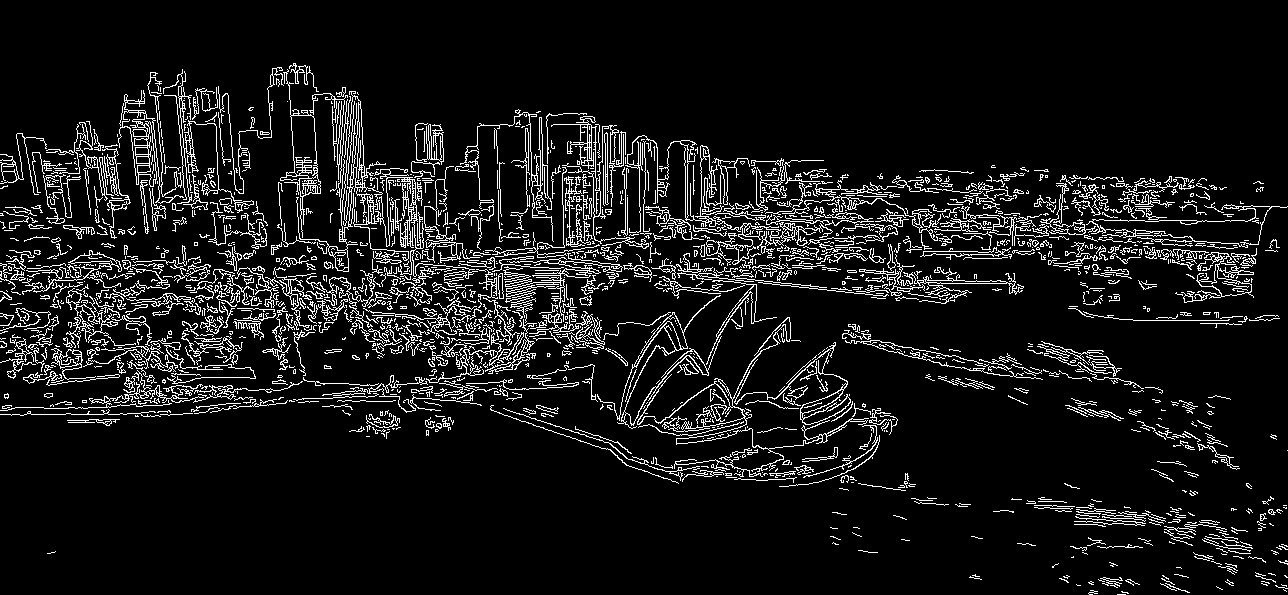opera house: (482, 258, 889, 472)
